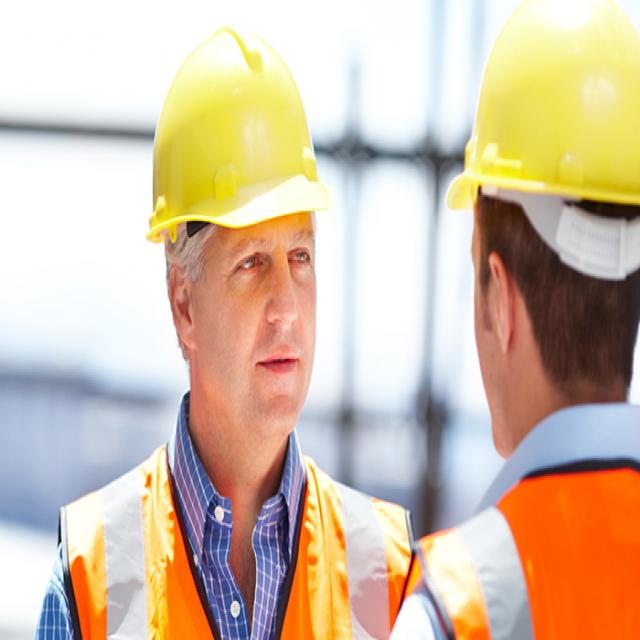Reflective-Jacket: (59, 440, 416, 640), (426, 458, 639, 640)
Safety-Helmet: (446, 6, 640, 226), (142, 24, 334, 242)
